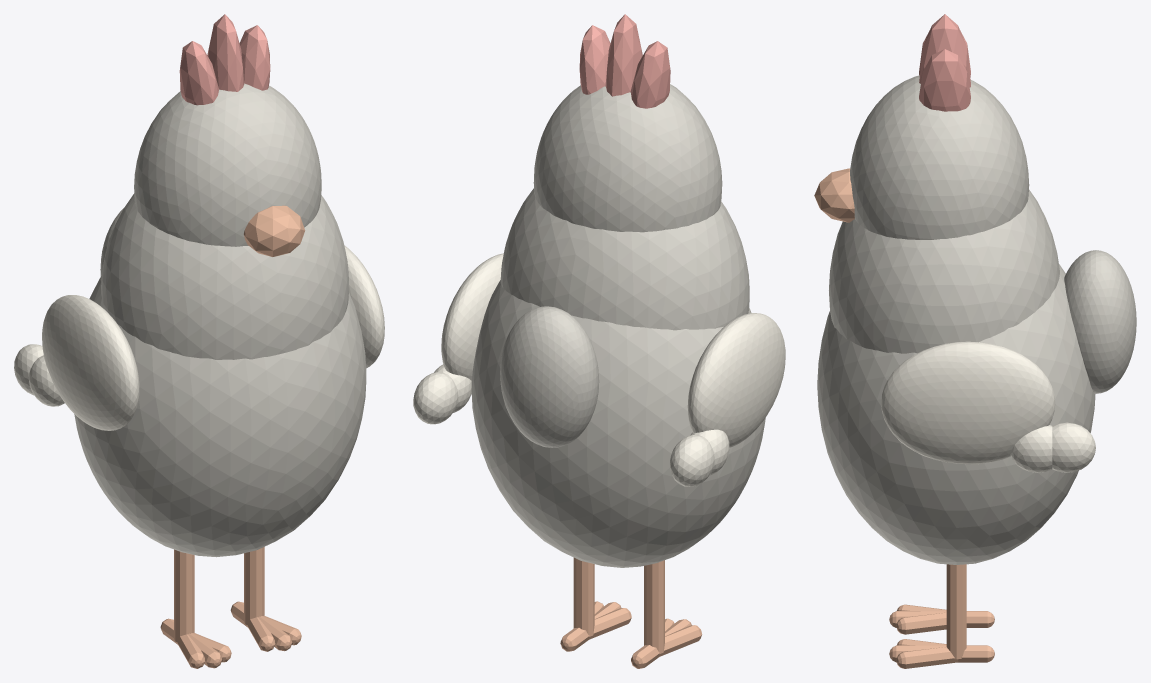
Rendered from chicken.glb.
3 renders of one model, left to right at view 1: azimuth 30°, elevation 25°; view 2: azimuth 150°, elevation 25°; view 3: azimuth 270°, elevation 25°, orthographic.
Visible parts, largest first — view 1: Body, Chest, Head, Wing_R, Wing_L, Beak, Comb_1, Comb_0, Leg_R, Comb_2, Leg_L, Wing_R_f0 (+3 smaller); view 2: Body, Chest, Head, Tail, Wing_R, Wing_L, Comb_1, Comb_0, Wing_L_f1, Wing_R_f1, Leg_R, Comb_2 (+5 smaller); view 3: Body, Chest, Head, Wing_L, Tail, Comb_2, Leg_L, Wing_L_f1, Beak, Wing_L_f0, Comb_1, Toe_L_2 (+2 smaller).
Boxes of the visible parts, x1,y1,x2,y2 form: Body: (74, 276, 366, 557); Chest: (101, 193, 348, 359); Head: (134, 83, 321, 246); Wing_R: (42, 295, 139, 430); Wing_L: (344, 245, 384, 368); Beak: (243, 205, 305, 256); Comb_1: (207, 14, 244, 91); Comb_0: (179, 41, 218, 105); Leg_R: (174, 549, 194, 641); Comb_2: (239, 25, 270, 90); Leg_L: (244, 547, 264, 624); Wing_R_f0: (28, 355, 64, 406); Body: (471, 280, 765, 567); Chest: (500, 188, 749, 330); Head: (533, 84, 722, 232); Tail: (500, 306, 599, 447); Wing_R: (687, 313, 785, 447); Wing_L: (441, 253, 503, 380); Comb_1: (605, 14, 642, 96); Comb_0: (630, 41, 670, 108); Wing_L_f1: (413, 372, 458, 424); Wing_R_f1: (669, 435, 714, 486); Leg_R: (644, 560, 664, 653); Comb_2: (579, 25, 610, 94); Body: (817, 264, 1095, 564); Chest: (829, 189, 1059, 353); Head: (850, 75, 1029, 239); Wing_L: (881, 341, 1055, 464); Tail: (1064, 250, 1136, 393); Comb_2: (919, 49, 970, 111); Leg_L: (946, 564, 966, 659); Wing_L_f1: (1052, 422, 1095, 472); Beak: (814, 168, 854, 222); Wing_L_f0: (1010, 425, 1052, 472); Comb_1: (919, 14, 970, 87); Toe_L_2: (896, 647, 957, 668).
Size of the model in its own units: 0.203 by 0.4195 by 0.1942.
